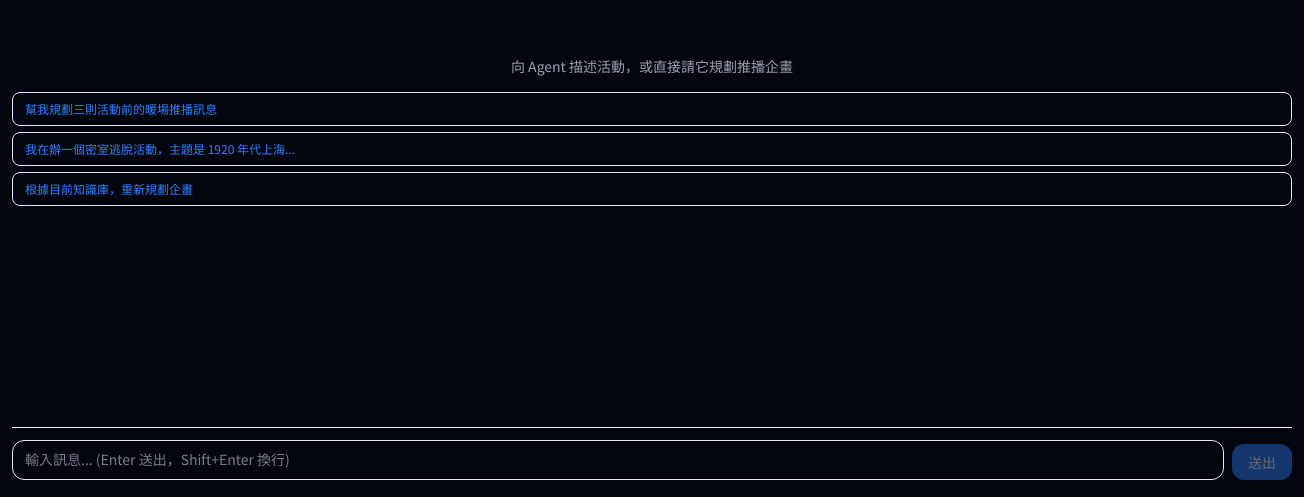
AgentChatPanel — async queued + onSnapshot › shows reply when snapshot status = completed
Type "規劃" into the text box with placeholder "輸入訊息... (Enter 送出，Shift+Enter 換行)". click: x=618, y=460
box: [12,440,1224,480]
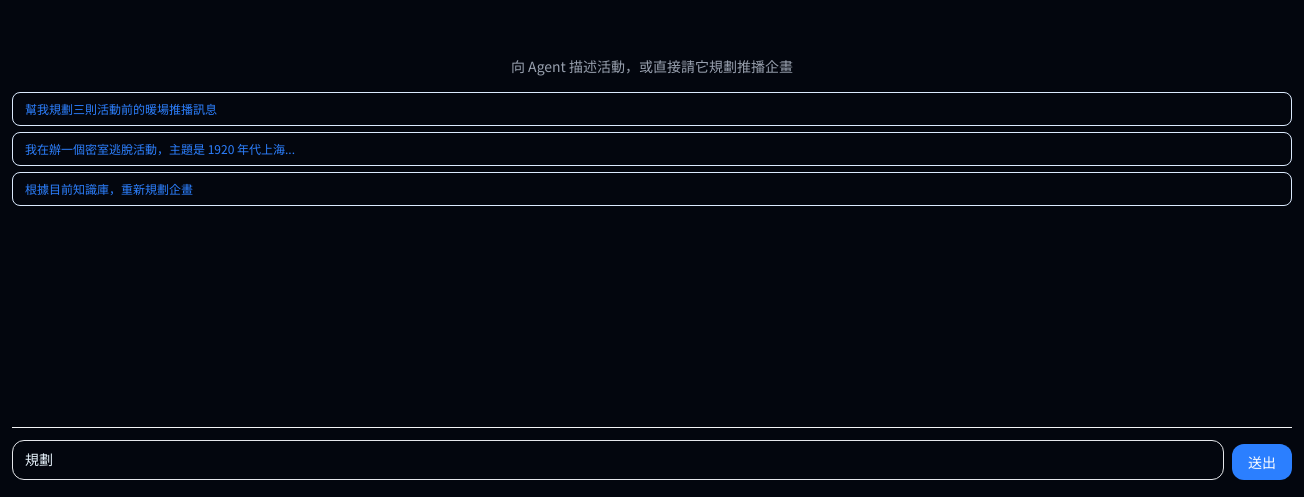
Click the button "送出". click: x=1262, y=462
box: [1232,444,1292,480]
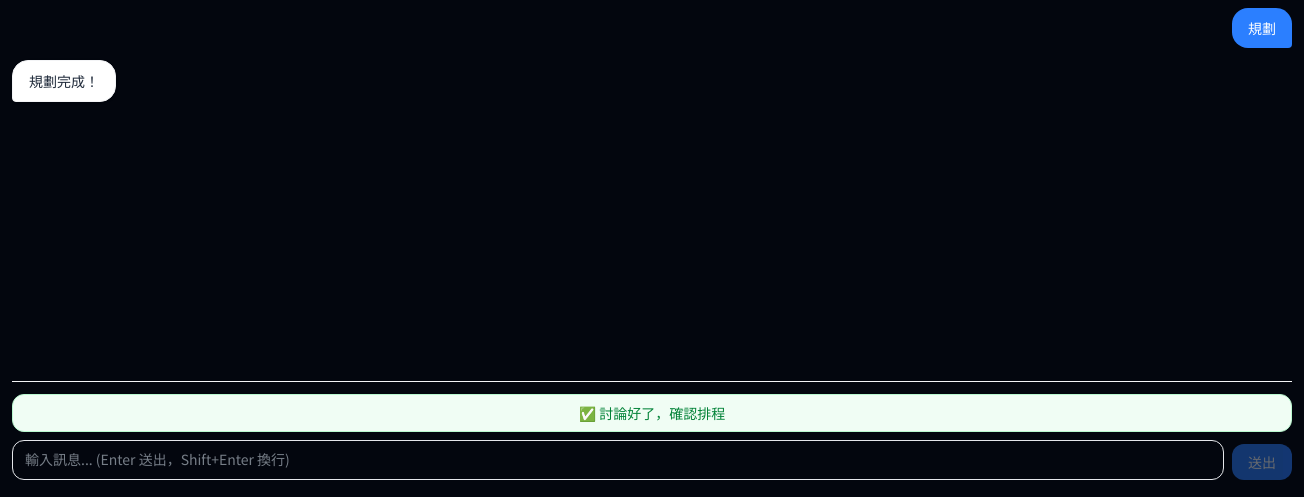
expect the text "規劃完成！" is shown: met, box [12,60,116,102]
